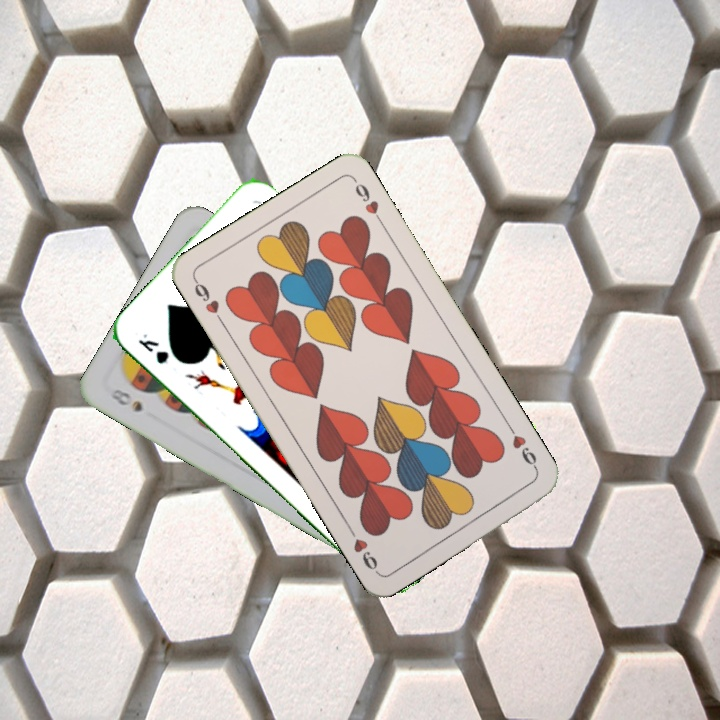GK: (134, 329, 172, 367)
H9: (190, 275, 227, 328), (504, 421, 541, 474)
S8: (105, 385, 145, 415)
